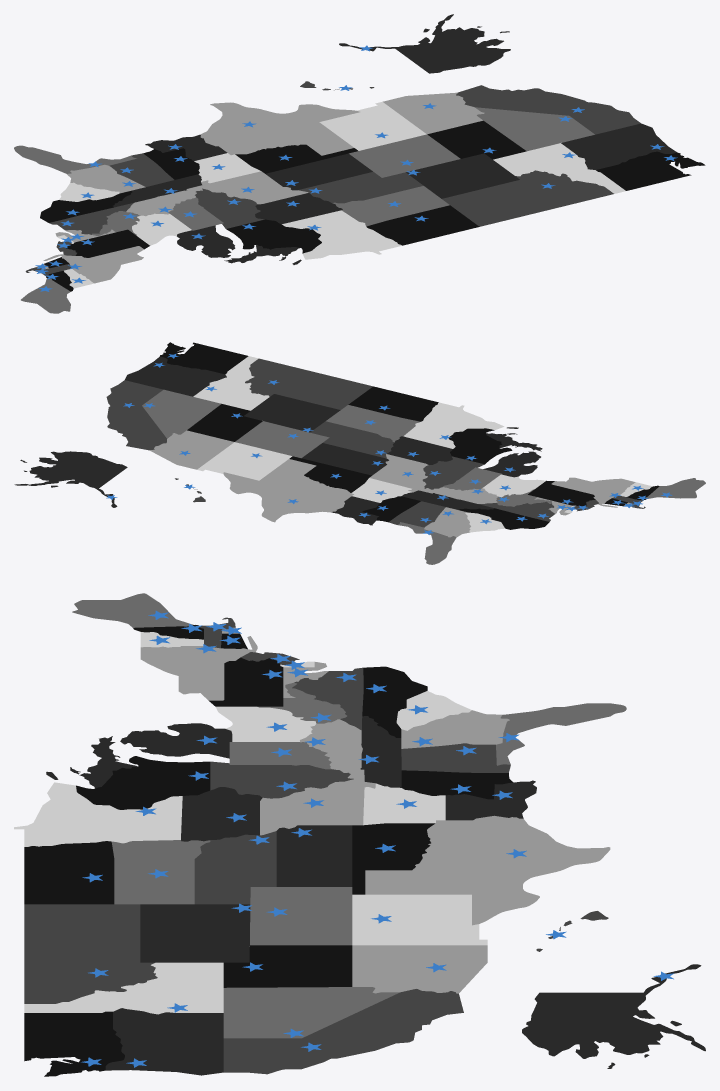
The model's file is US_States_2D_V3.fbx.
The picture shows the model from 3 angles, top to bottom: view 1: azimuth 30°, elevation 25°; view 2: azimuth 150°, elevation 25°; view 3: azimuth 270°, elevation 25°; orthographic projection. The views are drawn at different scales.
Visible parts, largest first — view 1: Texas_2D_V3, Montana_2D_V3, California_2D_V3, Alaska_2D_V3, Nevada_2D_V3, Minnesota_2D_V3, Oregon_2D_V3, Wyoming_2D_V3, New_Mexico_2D_V3, Colorado_2D_V3, Arizona_2D_V3, Idaho_2D_V3 (+29 smaller); view 2: Texas_2D_V3, Montana_2D_V3, California_2D_V3, Alaska_2D_V3, Nevada_2D_V3, Oregon_2D_V3, Minnesota_2D_V3, Wyoming_2D_V3, New_Mexico_2D_V3, Colorado_2D_V3, Arizona_2D_V3, Idaho_2D_V3 (+29 smaller); view 3: Texas_2D_V3, Montana_2D_V3, California_2D_V3, Alaska_2D_V3, Nevada_2D_V3, Minnesota_2D_V3, Oregon_2D_V3, Wyoming_2D_V3, New_Mexico_2D_V3, Colorado_2D_V3, Arizona_2D_V3, Idaho_2D_V3 (+29 smaller).
Part boxes in pixels (left/top/right/bottom): Texas_2D_V3: left=200, top=102, right=359, bottom=155; Montana_2D_V3: left=442, top=170, right=613, bottom=226; California_2D_V3: left=456, top=85, right=640, bottom=134; Alaska_2D_V3: left=339, top=14, right=510, bottom=73; Nevada_2D_V3: left=475, top=107, right=594, bottom=151; Minnesota_2D_V3: left=282, top=210, right=401, bottom=259; Oregon_2D_V3: left=561, top=123, right=677, bottom=169; Wyoming_2D_V3: left=406, top=153, right=519, bottom=198; New_Mexico_2D_V3: left=319, top=101, right=426, bottom=150; Colorado_2D_V3: left=349, top=134, right=460, bottom=177; Arizona_2D_V3: left=383, top=92, right=484, bottom=134; Idaho_2D_V3: left=493, top=143, right=625, bottom=193; Texas_2D_V3: left=223, top=459, right=353, bottom=522; Montana_2D_V3: left=245, top=358, right=372, bottom=409; California_2D_V3: left=106, top=380, right=166, bottom=450; Alaska_2D_V3: left=14, top=451, right=127, bottom=507; Nevada_2D_V3: left=142, top=389, right=221, bottom=438; Oregon_2D_V3: left=125, top=356, right=226, bottom=396; Minnesota_2D_V3: left=403, top=402, right=504, bottom=448; Wyoming_2D_V3: left=244, top=394, right=340, bottom=432; New_Mexico_2D_V3: left=197, top=442, right=292, bottom=480; Colorado_2D_V3: left=235, top=421, right=329, bottom=458; Arizona_2D_V3: left=149, top=430, right=234, bottom=469; Idaho_2D_V3: left=193, top=356, right=269, bottom=410; Texas_2D_V3: left=365, top=815, right=610, bottom=925; Montana_2D_V3: left=24, top=904, right=157, bottom=1003; California_2D_V3: left=223, top=989, right=463, bottom=1074; Alaska_2D_V3: left=522, top=964, right=705, bottom=1068; Nevada_2D_V3: left=223, top=987, right=399, bottom=1038; Minnesota_2D_V3: left=14, top=782, right=182, bottom=846; Oregon_2D_V3: left=105, top=1008, right=223, bottom=1075; Wyoming_2D_V3: left=140, top=904, right=250, bottom=962; New_Mexico_2D_V3: left=352, top=894, right=487, bottom=945; Colorado_2D_V3: left=250, top=887, right=352, bottom=945; Arizona_2D_V3: left=352, top=945, right=487, bottom=993; Idaho_2D_V3: left=24, top=962, right=223, bottom=1014.
Bounding box in the file's own units: 922 × 0.1 × 558.
